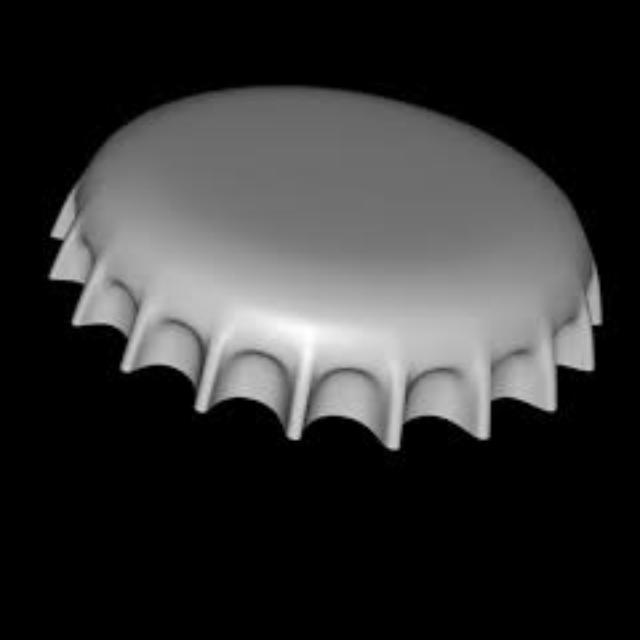Metal: (41, 64, 618, 488), (41, 0, 618, 16)
